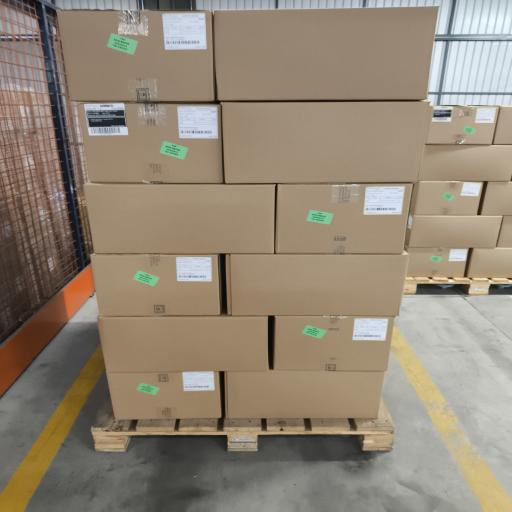pallet: (92, 399, 394, 451), (404, 278, 511, 295)
